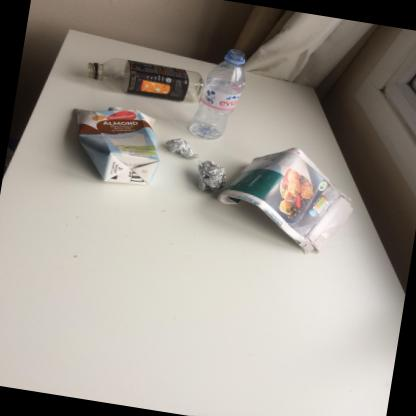Metal: (197, 160, 227, 190), (166, 138, 199, 158)
Paper: (215, 147, 353, 254), (74, 107, 160, 185)
Plastic: (86, 58, 204, 102), (190, 49, 245, 139)
